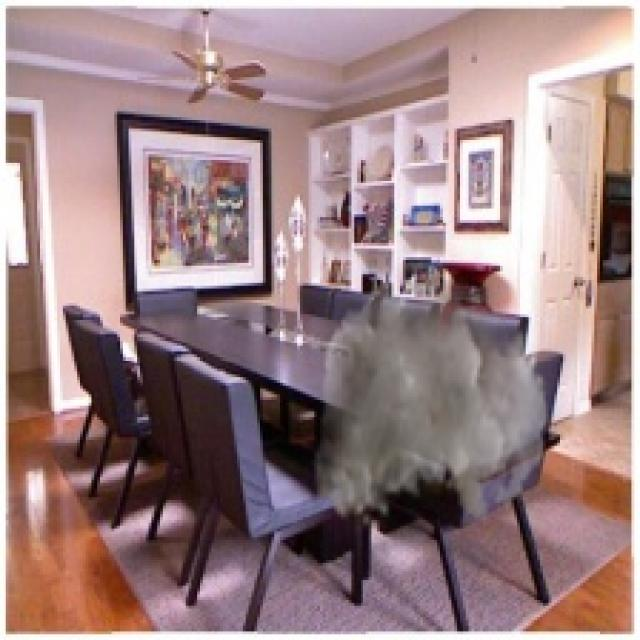smoke: (312, 257, 548, 529)
